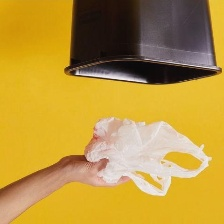plastic_bag: (79, 112, 215, 199)
